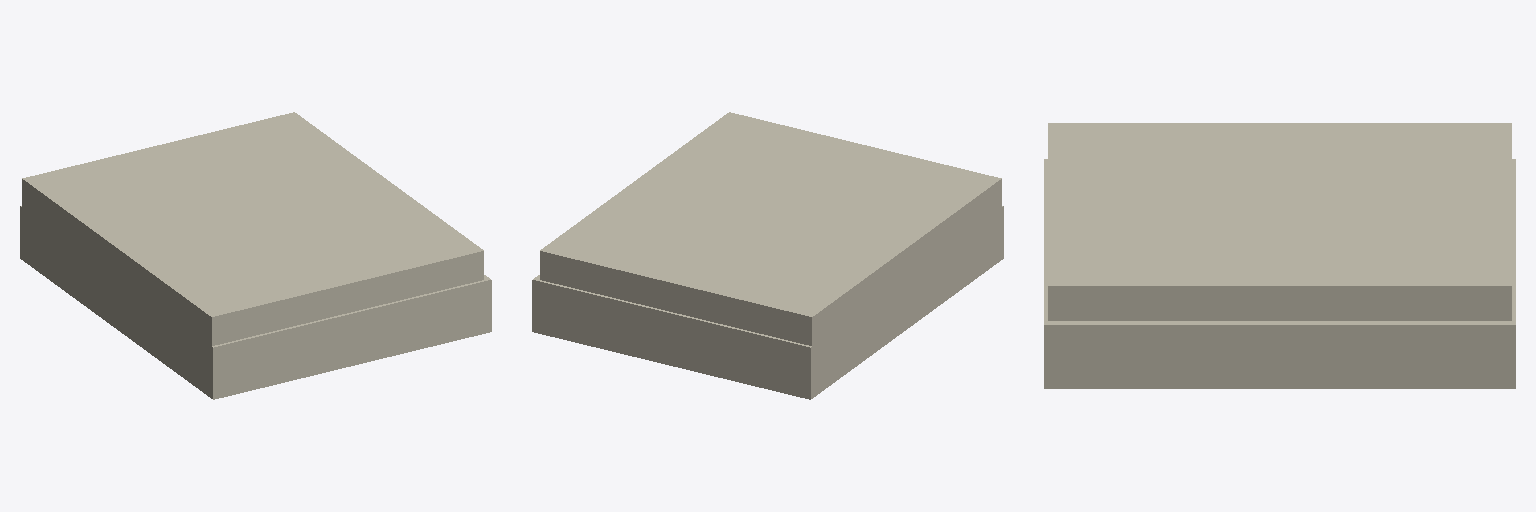
The robot description file, URDF, robot "old_laptop":
<?xml version="1.0"?>
<robot name="old_laptop">
  <!-- base / keyboard half, ~0.25m deep (x) x 0.30m wide (y) x 0.045m thick (z) -->
  <link name="base_link">
    <inertial>
      <origin xyz="0 0 0" rpy="0 0 0"/>
      <mass value="2.0"/>
      <inertia ixx="0.0169" ixy="0" ixz="0" iyy="0.0111" iyz="0" izz="0.0267"/>
    </inertial>
    <visual>
      <origin xyz="0 0 0" rpy="0 0 0"/>
      <geometry>
        <box size="0.25 0.30 0.045"/>
      </geometry>
      <material name="beige">
        <color rgba="0.80 0.78 0.72 1"/>
      </material>
    </visual>
    <collision>
      <origin xyz="0 0 0" rpy="0 0 0"/>
      <geometry>
        <box size="0.25 0.30 0.045"/>
      </geometry>
    </collision>
  </link>

  <!-- lid / screen half, same footprint when closed, 0.025m thick -->
  <!-- child frame origin is at hinge, visual is offset forward to cover base when joint=0 (closed) -->
  <link name="lid_link">
    <inertial>
      <origin xyz="0.1225 0 0.0125" rpy="0 0 0"/>
      <mass value="1.0"/>
      <inertia ixx="0.0075" ixy="0" ixz="0" iyy="0.00505" iyz="0" izz="0.01258"/>
    </inertial>
    <visual>
      <origin xyz="0.1225 0 0.0125" rpy="0 0 0"/>
      <geometry>
        <box size="0.245 0.295 0.025"/>
      </geometry>
      <material name="beige">
        <color rgba="0.80 0.78 0.72 1"/>
      </material>
    </visual>
    <collision>
      <origin xyz="0.1225 0 0.0125" rpy="0 0 0"/>
      <geometry>
        <box size="0.245 0.295 0.025"/>
      </geometry>
    </collision>
  </link>

  <!-- hinge at rear-top edge of base. axis left-right.
       0 = closed flat, ~1.57 = open vertical ~90deg, up to 1.92 ~110deg -->
  <joint name="lid_hinge" type="revolute">
    <parent link="base_link"/>
    <child link="lid_link"/>
    <origin xyz="-0.125 0 0.0225" rpy="0 0 0"/>
    <axis xyz="0 -1 0"/>
    <limit lower="0" upper="1.92" effort="5" velocity="3.0"/>
    <dynamics damping="0.1" friction="0.1"/>
  </joint>
</robot>

--- Render facts (derived) ---
3 views of the same robot in one strip: view 1: azimuth 30°, elevation 25°; view 2: azimuth 150°, elevation 25°; view 3: azimuth 270°, elevation 25° (orthographic).
Robot: old_laptop — 2 links, 1 joints (1 revolute); root link base_link; default pose: all joints at 0.
Visible links, largest first — view 1: lid_link, base_link; view 2: lid_link, base_link; view 3: lid_link, base_link.
Link boxes in pixels (box(x1,y1,x2,y2)): lid_link: box(22, 112, 483, 345); base_link: box(20, 206, 491, 399); lid_link: box(540, 112, 1001, 345); base_link: box(532, 206, 1003, 399); lid_link: box(1048, 123, 1511, 320); base_link: box(1044, 159, 1515, 388).
Bounding box of the posed robot: 0.25 × 0.3 × 0.07 m (x, y, z).
Geometry: primitives only (box / cylinder / sphere), no mesh files.
